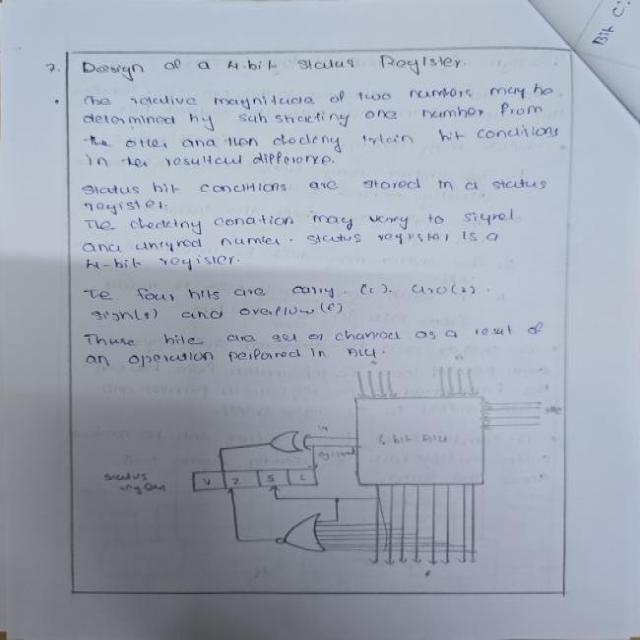Figure Detection - v3 Dataset Version2: (112, 354, 564, 579)
